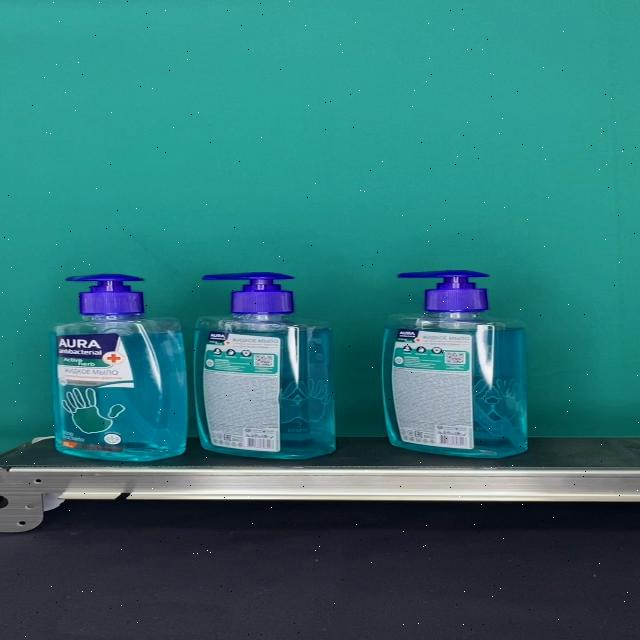Bottle: (382, 269, 528, 459), (193, 270, 335, 460), (50, 273, 186, 461)
Cap: (204, 271, 295, 314), (397, 270, 489, 312), (64, 273, 144, 314)
